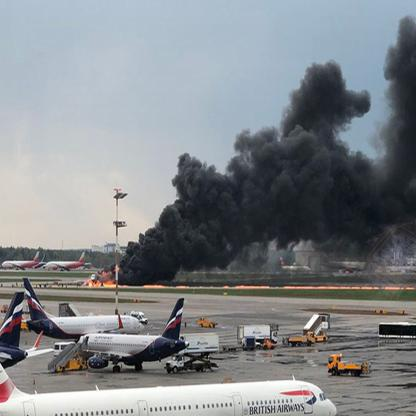CIV_Plane: (0, 354, 341, 416), (75, 294, 193, 374), (18, 271, 144, 338), (0, 249, 42, 276), (44, 249, 84, 276)
